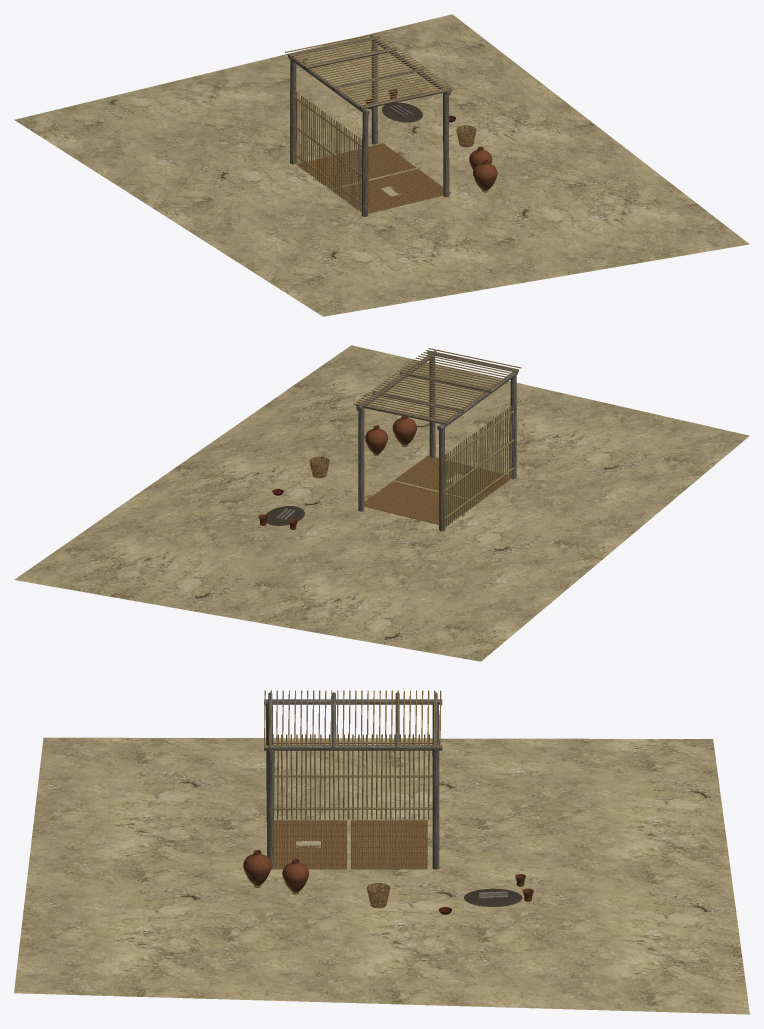
File: rest.glb
The picture shows the model from 3 angles, top to bottom: view 1: azimuth 30°, elevation 25°; view 2: azimuth 150°, elevation 25°; view 3: azimuth 270°, elevation 25°; orthographic projection. The views are drawn at different scales.
Parts seen in each view (by area): view 1: Rest zone graded earth, HERO | woven mat.001, HERO | woven mat.002, REST | shelter upright, REST | shelter upright.001, REST | shelter upright.002, HERO | jar.015, REST | ash hearth, inferred, REST | shelter upright.003; view 2: Rest zone graded earth, HERO | woven mat.002, HERO | woven mat.001, REST | shelter upright.002, REST | shelter upright, HERO | jar.015; view 3: Rest zone graded earth, HERO | woven mat.002, HERO | woven mat.001, REST | shelter long pole, REST | shelter upright.002, REST | shelter long pole.001, REST | shelter upright, HERO | jar.015, REST | ash hearth, inferred, HERO | jar.016.
Boxes of the visible parts, left/top/right/bottom form: Rest zone graded earth: left=14, top=14, right=749, bottom=316; HERO | woven mat.001: left=332, top=169, right=450, bottom=213; HERO | woven mat.002: left=297, top=143, right=415, bottom=188; REST | shelter upright: left=443, top=92, right=449, bottom=196; REST | shelter upright.001: left=362, top=112, right=368, bottom=216; REST | shelter upright.002: left=371, top=40, right=377, bottom=144; HERO | jar.015: left=473, top=159, right=497, bottom=191; REST | ash hearth, inferred: left=382, top=102, right=422, bottom=122; REST | shelter upright.003: left=290, top=59, right=296, bottom=164; Rest zone graded earth: left=14, top=345, right=749, bottom=661; HERO | woven mat.002: left=364, top=481, right=477, bottom=526; HERO | woven mat.001: left=395, top=455, right=510, bottom=500; REST | shelter upright.002: left=358, top=408, right=364, bottom=511; REST | shelter upright: left=429, top=356, right=435, bottom=457; HERO | jar.015: left=392, top=416, right=416, bottom=445; Rest zone graded earth: left=14, top=737, right=749, bottom=1014; HERO | woven mat.002: left=351, top=820, right=427, bottom=869; HERO | woven mat.001: left=271, top=820, right=346, bottom=869; REST | shelter long pole: left=264, top=745, right=442, bottom=750; REST | shelter upright.002: left=432, top=749, right=439, bottom=869; REST | shelter long pole.001: left=264, top=699, right=442, bottom=704; REST | shelter upright: left=267, top=749, right=274, bottom=867; HERO | jar.015: left=243, top=850, right=271, bottom=886; REST | ash hearth, inferred: left=464, top=888, right=522, bottom=906; HERO | jar.016: left=282, top=858, right=308, bottom=892.
Size of the model in its own units: 9.51 by 2.68 by 11.55.
Materials: 9 (9 with a texture image).
